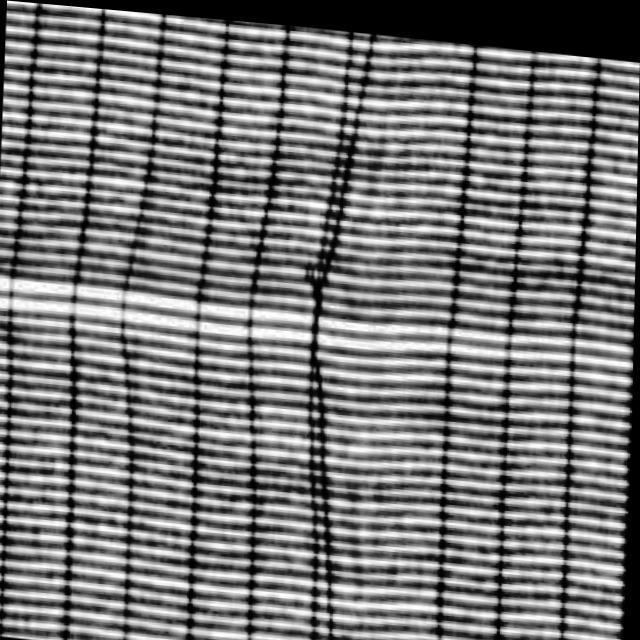Stitch: (288, 126, 378, 481)
